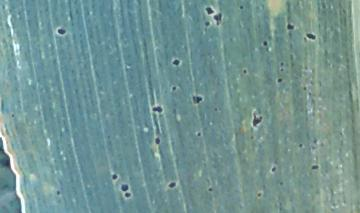tarspot: (213, 9, 223, 26), (253, 112, 262, 129), (153, 104, 163, 113), (192, 95, 202, 104), (206, 5, 215, 15), (56, 27, 67, 35), (306, 33, 317, 41), (172, 57, 181, 66), (166, 181, 177, 188), (286, 23, 296, 30), (111, 172, 118, 181), (120, 184, 129, 191), (155, 136, 162, 145), (54, 189, 62, 196), (123, 191, 131, 198), (170, 84, 177, 92), (203, 19, 211, 26), (238, 3, 245, 10), (270, 165, 276, 173), (312, 165, 320, 171), (302, 82, 307, 91), (10, 112, 16, 119), (242, 68, 248, 75), (276, 77, 283, 83), (248, 133, 254, 140), (278, 180, 284, 187), (263, 39, 268, 47), (207, 186, 213, 192), (257, 192, 263, 198), (313, 138, 318, 145), (196, 131, 201, 137), (297, 143, 303, 148), (213, 107, 219, 112), (280, 61, 284, 67)
